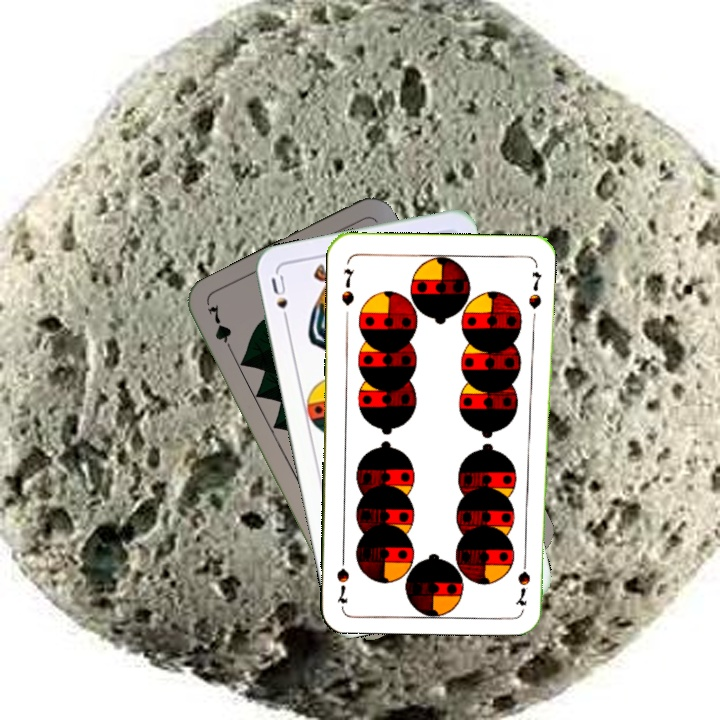G7: (202, 301, 237, 358)
S7: (514, 550, 533, 608), (337, 264, 357, 308)
SU: (267, 271, 292, 328)
